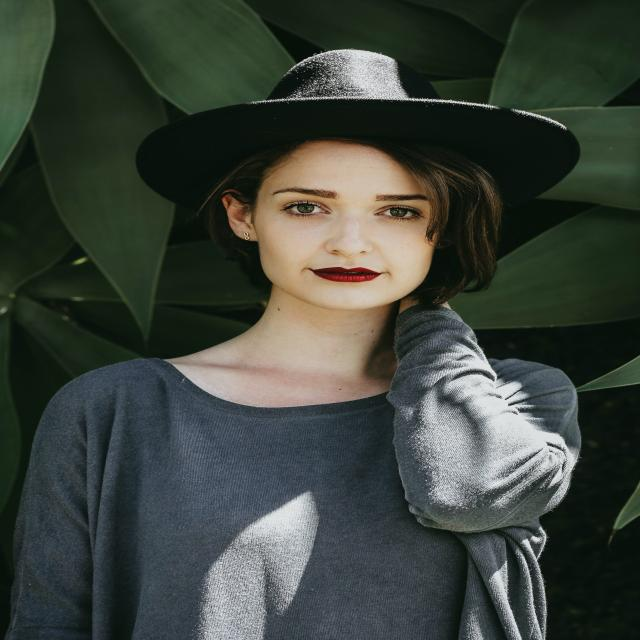adult: (0, 126, 576, 640)
